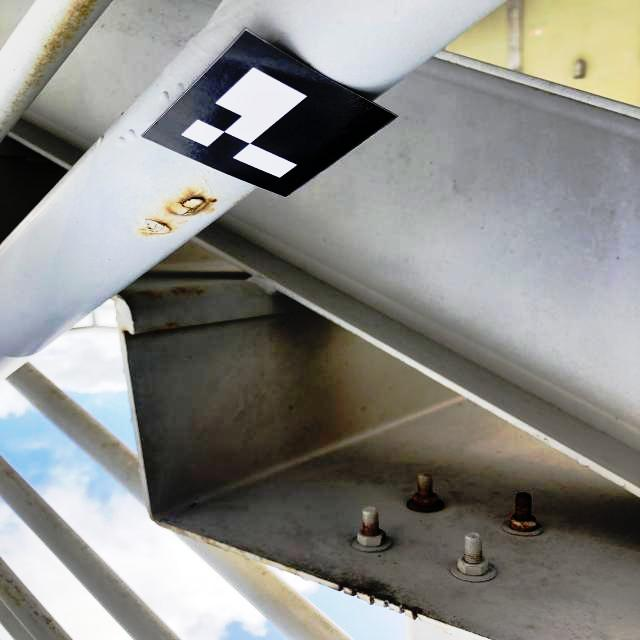Corrosion: (25, 0, 100, 96), (509, 492, 538, 532), (162, 192, 213, 214), (407, 484, 444, 512), (136, 217, 175, 237), (362, 522, 379, 536), (465, 552, 481, 562)
